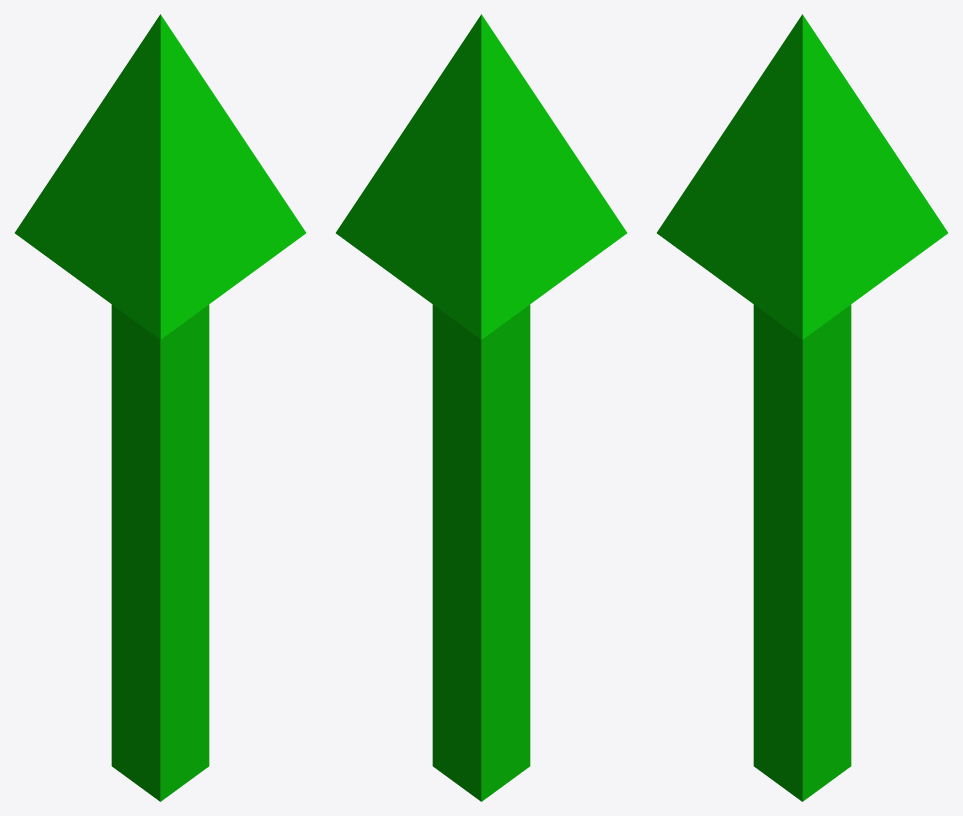
File: extraVector.obj
The picture shows the model from 3 angles, left to right: view 1: azimuth 30°, elevation 25°; view 2: azimuth 150°, elevation 25°; view 3: azimuth 270°, elevation 25°; orthographic projection.
Parts seen in each view (by area): view 1: pCylinder2; view 2: pCylinder2; view 3: pCylinder2.
Boxes of the visible parts, x1=… form: pCylinder2: x1=15, y1=14, x2=305, y2=801; pCylinder2: x1=336, y1=14, x2=626, y2=801; pCylinder2: x1=657, y1=14, x2=947, y2=801.
Size of the model in its own units: 0.45 by 1.5 by 0.5196.
